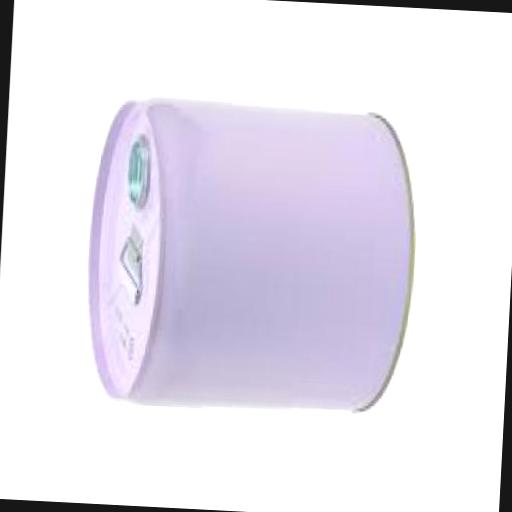metal: (80, 98, 420, 414)
